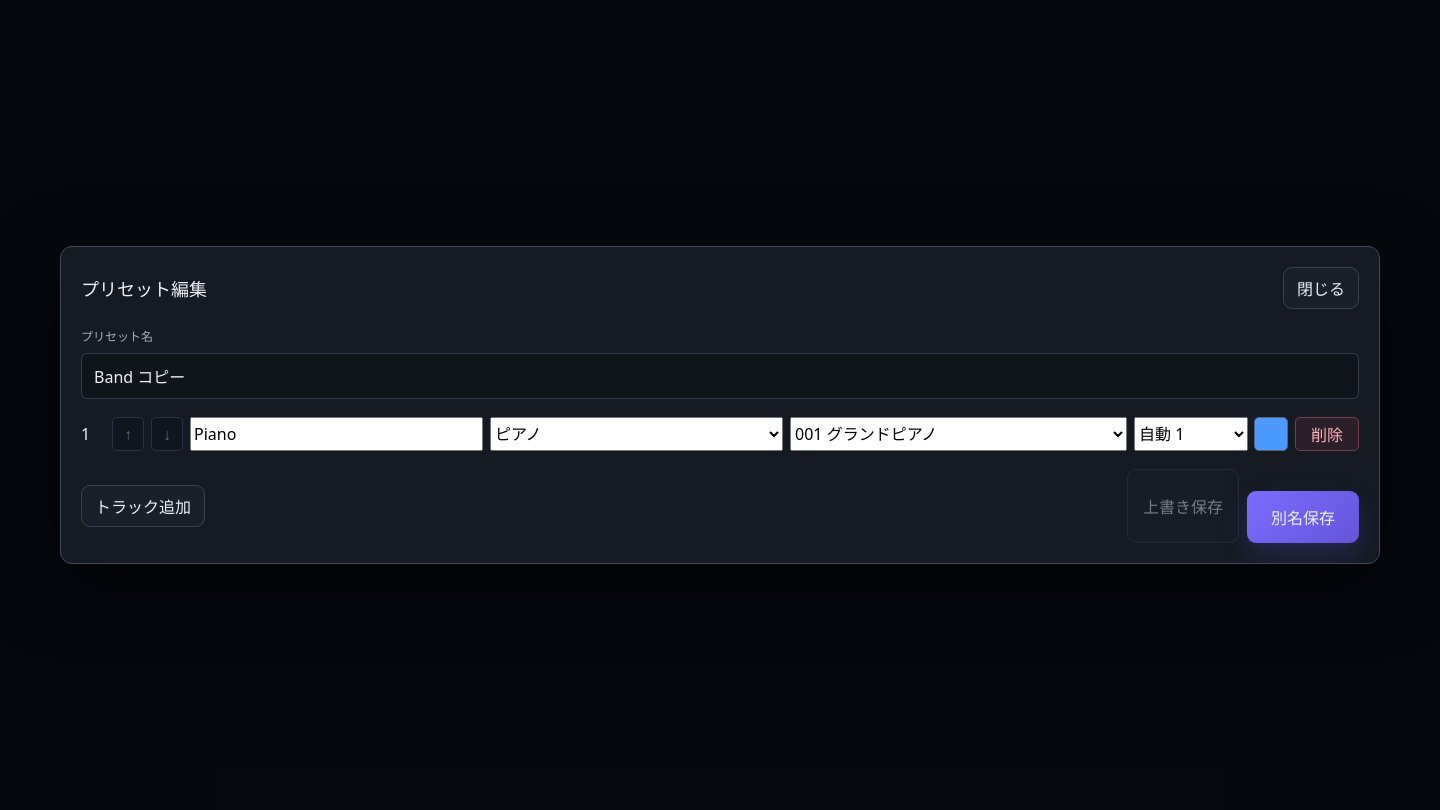
Test: PresetEditor › shows the native color picker only for a custom color
The width and height of the screenshot is (1440, 810).
Select "カスタム" in the dropdown named "トラック色": (1191, 434) top-left (1134, 417), bottom-right (1248, 451)
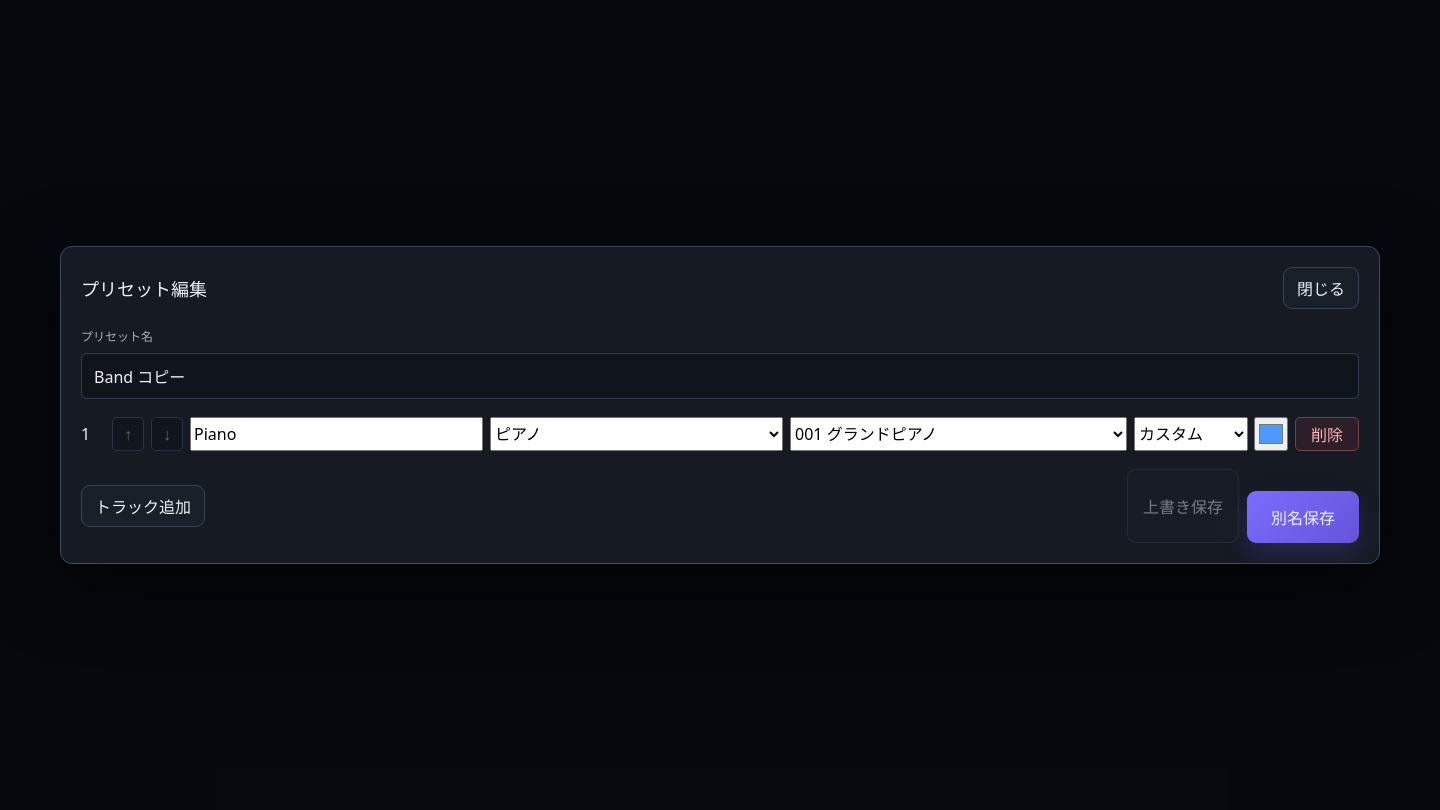
Expected: the colour field named "カスタム色" holds "#4c9aff", top-left (1254, 417), bottom-right (1288, 451)
